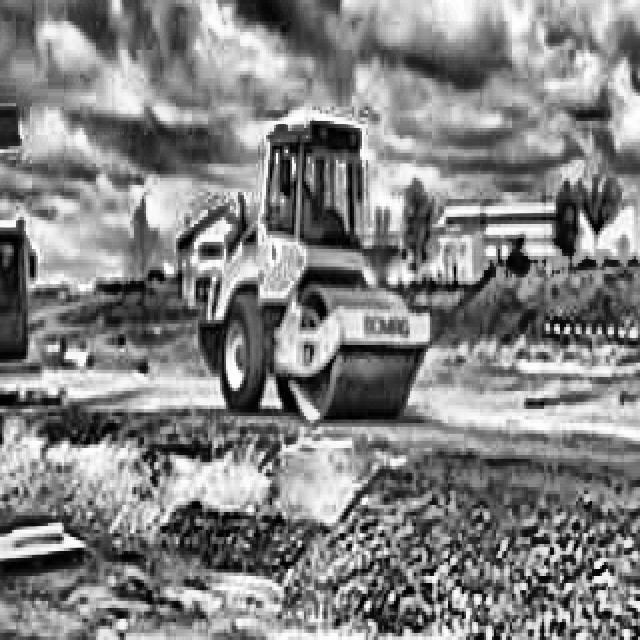excavator: (0, 0, 32, 366)
